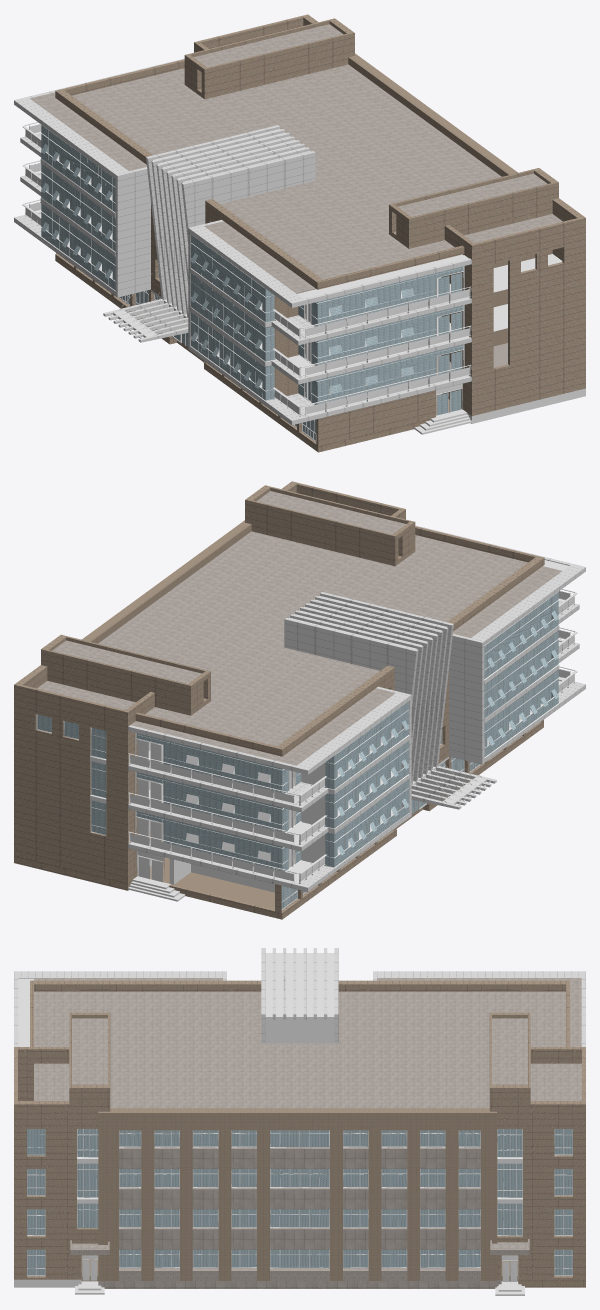
The model's file is building02_p6.fbx.
3 views of the same model, one above another, from view 1: azimuth 30°, elevation 25°; view 2: azimuth 150°, elevation 25°; view 3: azimuth 270°, elevation 25° (orthographic). The views are drawn at different scales.
Visible parts, largest first — view 1: Mesh1_Group1_Model; view 2: Mesh1_Group1_Model; view 3: Mesh1_Group1_Model.
Boxes of the visible parts, x1,y1,x2,y2 form: Mesh1_Group1_Model: (14, 14, 585, 452); Mesh1_Group1_Model: (14, 481, 585, 919); Mesh1_Group1_Model: (14, 948, 585, 1295).
Bounding box in the file's own units: 12732 × 6808 × 17671.
895 materials, 5 textured.
